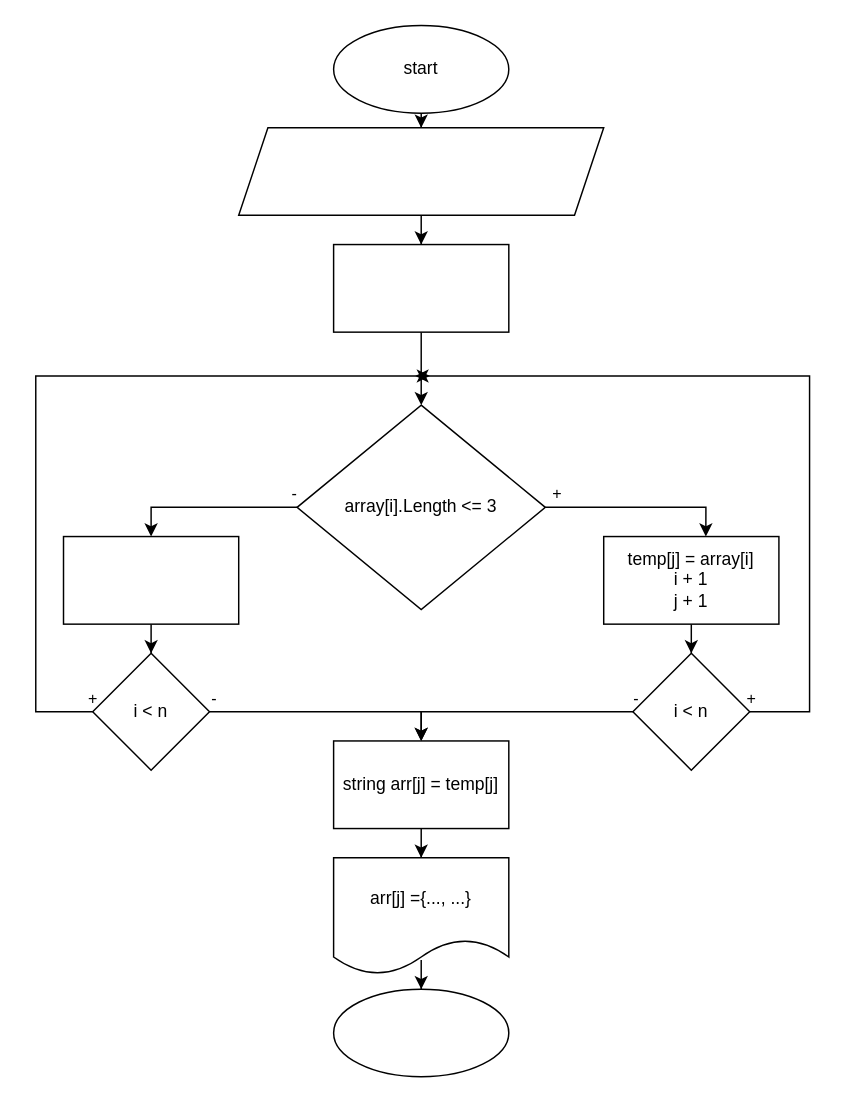
This 847x1102 diagram has some shape labels left out. Each missing label, with the box of its shape:
end: (332, 988, 509, 1077)
i + 1: (62, 535, 239, 624)
string array[n] = {..., ..., ..., ..., ..., ..., ...}: (237, 126, 604, 215)
string temp [n] = "" int i = 0 int j = 0: (332, 243, 509, 332)
